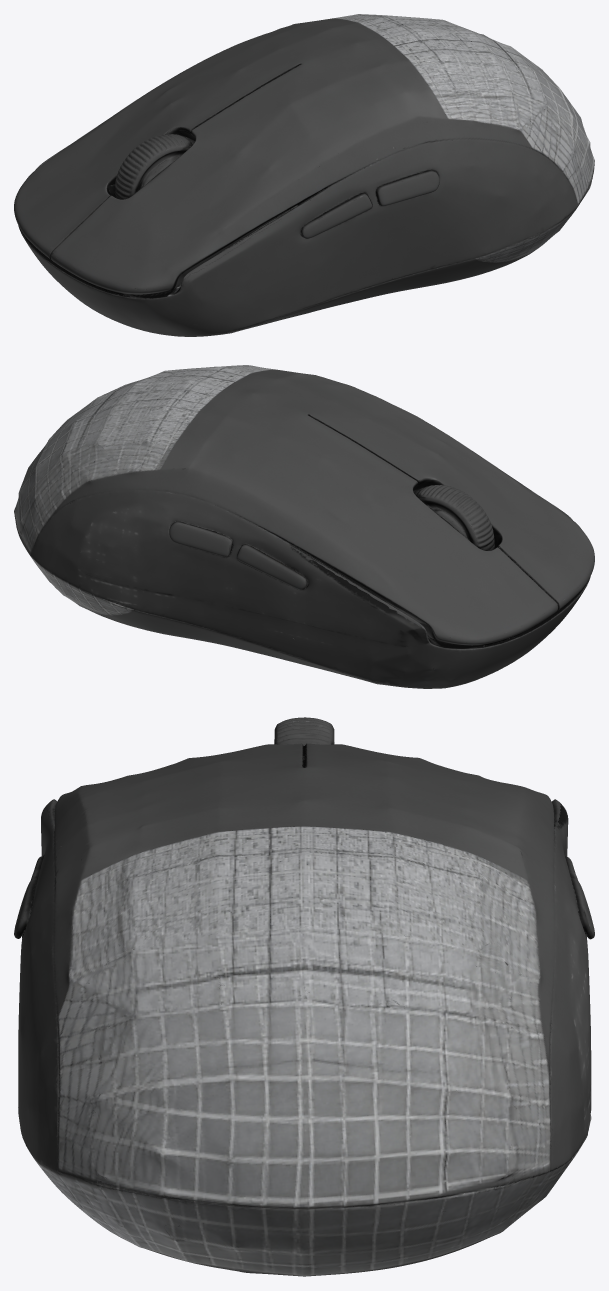
Rendered from mouse.glb.
3 views of the same model, one above another, from view 1: azimuth 30°, elevation 25°; view 2: azimuth 150°, elevation 25°; view 3: azimuth 270°, elevation 25° (orthographic). The views are drawn at different scales.
Bounding box in the file's own units: 2 × 0.7391 × 1.14.
1 material, 1 textured.
